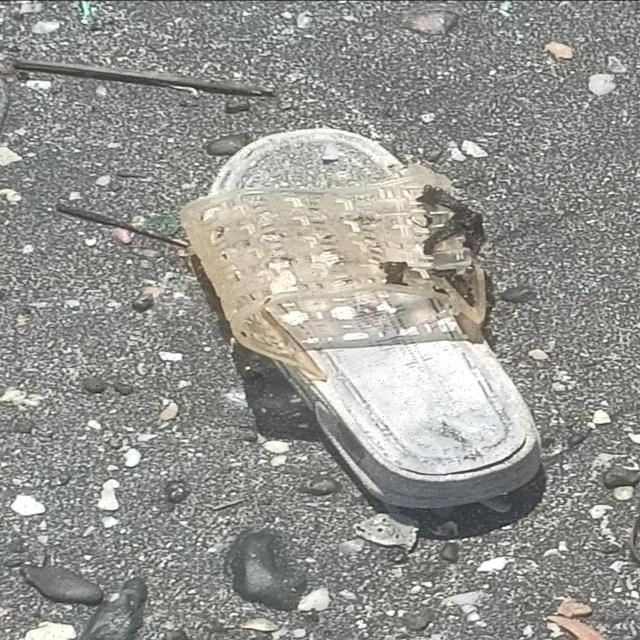rubber_waste: (177, 126, 548, 512)
